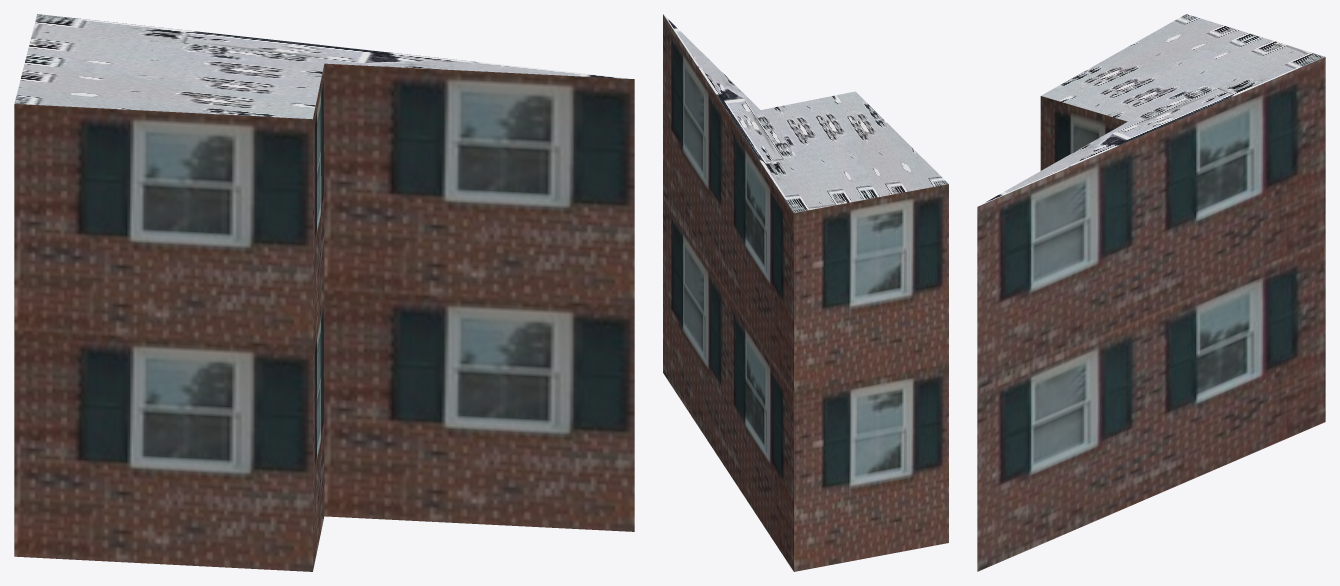
Rendered from ResTex__3000.fbx.
3 renders of one model, left to right at view 1: azimuth 30°, elevation 25°; view 2: azimuth 150°, elevation 25°; view 3: azimuth 270°, elevation 25°, orthographic. The views are drawn at different scales.
Parts seen in each view (by area): view 1: CityEngineMaterial_14_m, CityEngineMaterial_8_m; view 2: CityEngineMaterial_14_m, CityEngineMaterial_8_m; view 3: CityEngineMaterial_14_m, CityEngineMaterial_8_m.
Part boxes in pixels (bbox=[...]): CityEngineMaterial_14_m: bbox=[14, 63, 634, 571]; CityEngineMaterial_8_m: bbox=[14, 14, 631, 119]; CityEngineMaterial_14_m: bbox=[663, 14, 948, 571]; CityEngineMaterial_8_m: bbox=[663, 14, 948, 212]; CityEngineMaterial_14_m: bbox=[977, 57, 1325, 571]; CityEngineMaterial_8_m: bbox=[978, 14, 1324, 206].
Bounding box in the file's own units: 6.8 × 6 × 5.19.
Materials: 2 (2 with a texture image).
